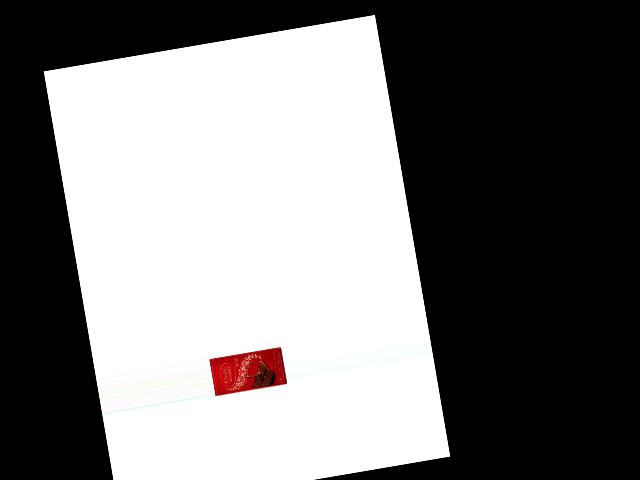chocolate: (209, 345, 287, 399)
